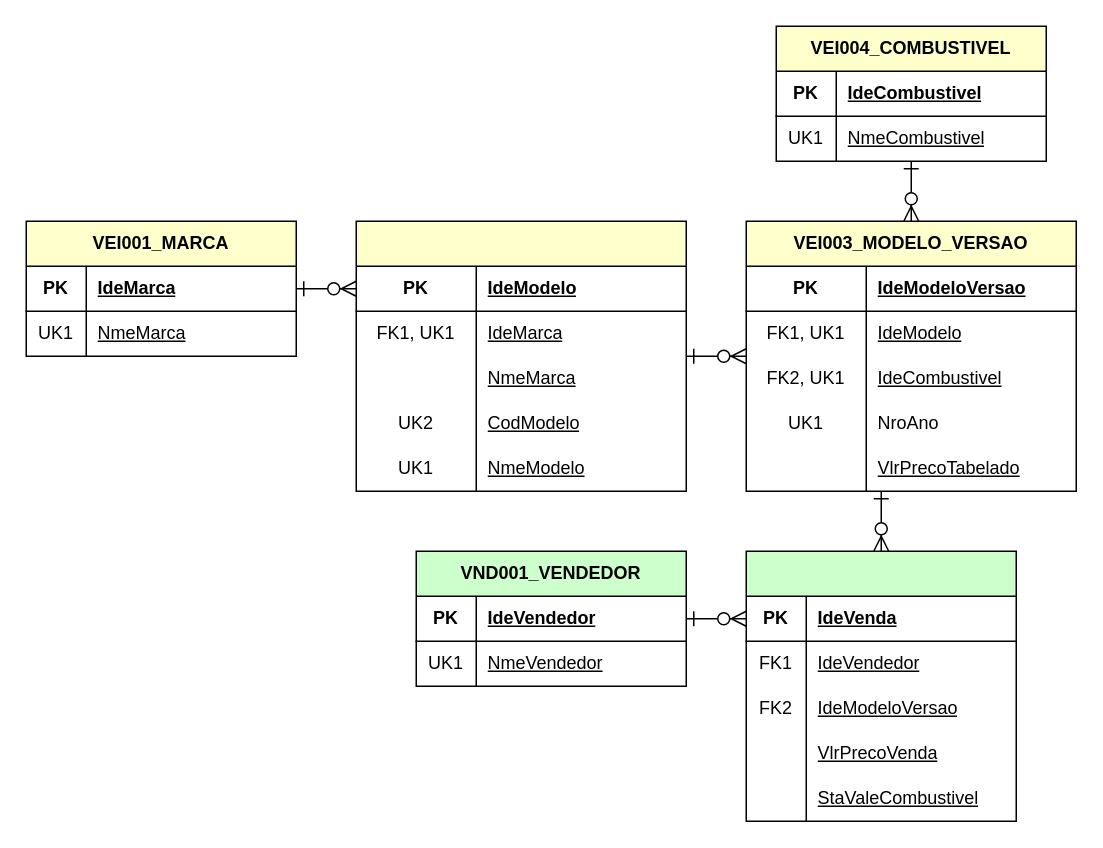
Some shapes in this 1103 by 848 pixel diagram are drawn without their labels. Here are the shapes that lost their labels. From the top down, the box of each, then its label:
(355, 220, 686, 491): VEI002_MODELO
(745, 550, 1016, 821): VND002_VENDA
